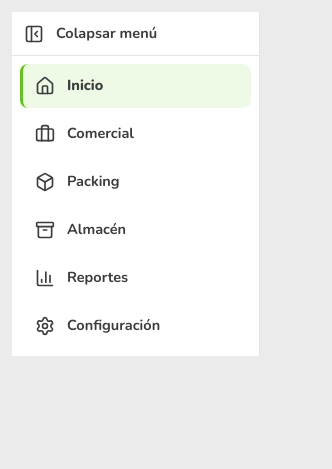
Scenario: Sidebar › H1-E4: al elegir "Packing" se despliega su grupo con "Lotes" y "Despachos"
Click the link "Packing".
click(77, 182)  # box x1=35 y1=171 x2=120 y2=192
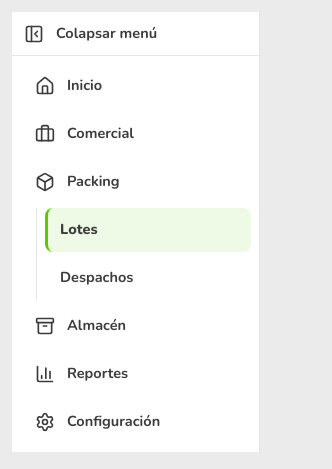
Now the link "Lotes" is shown, box x1=45 y1=208 x2=251 y2=252
Now the link "Despachos" is shown, box x1=60 y1=267 x2=133 y2=287
